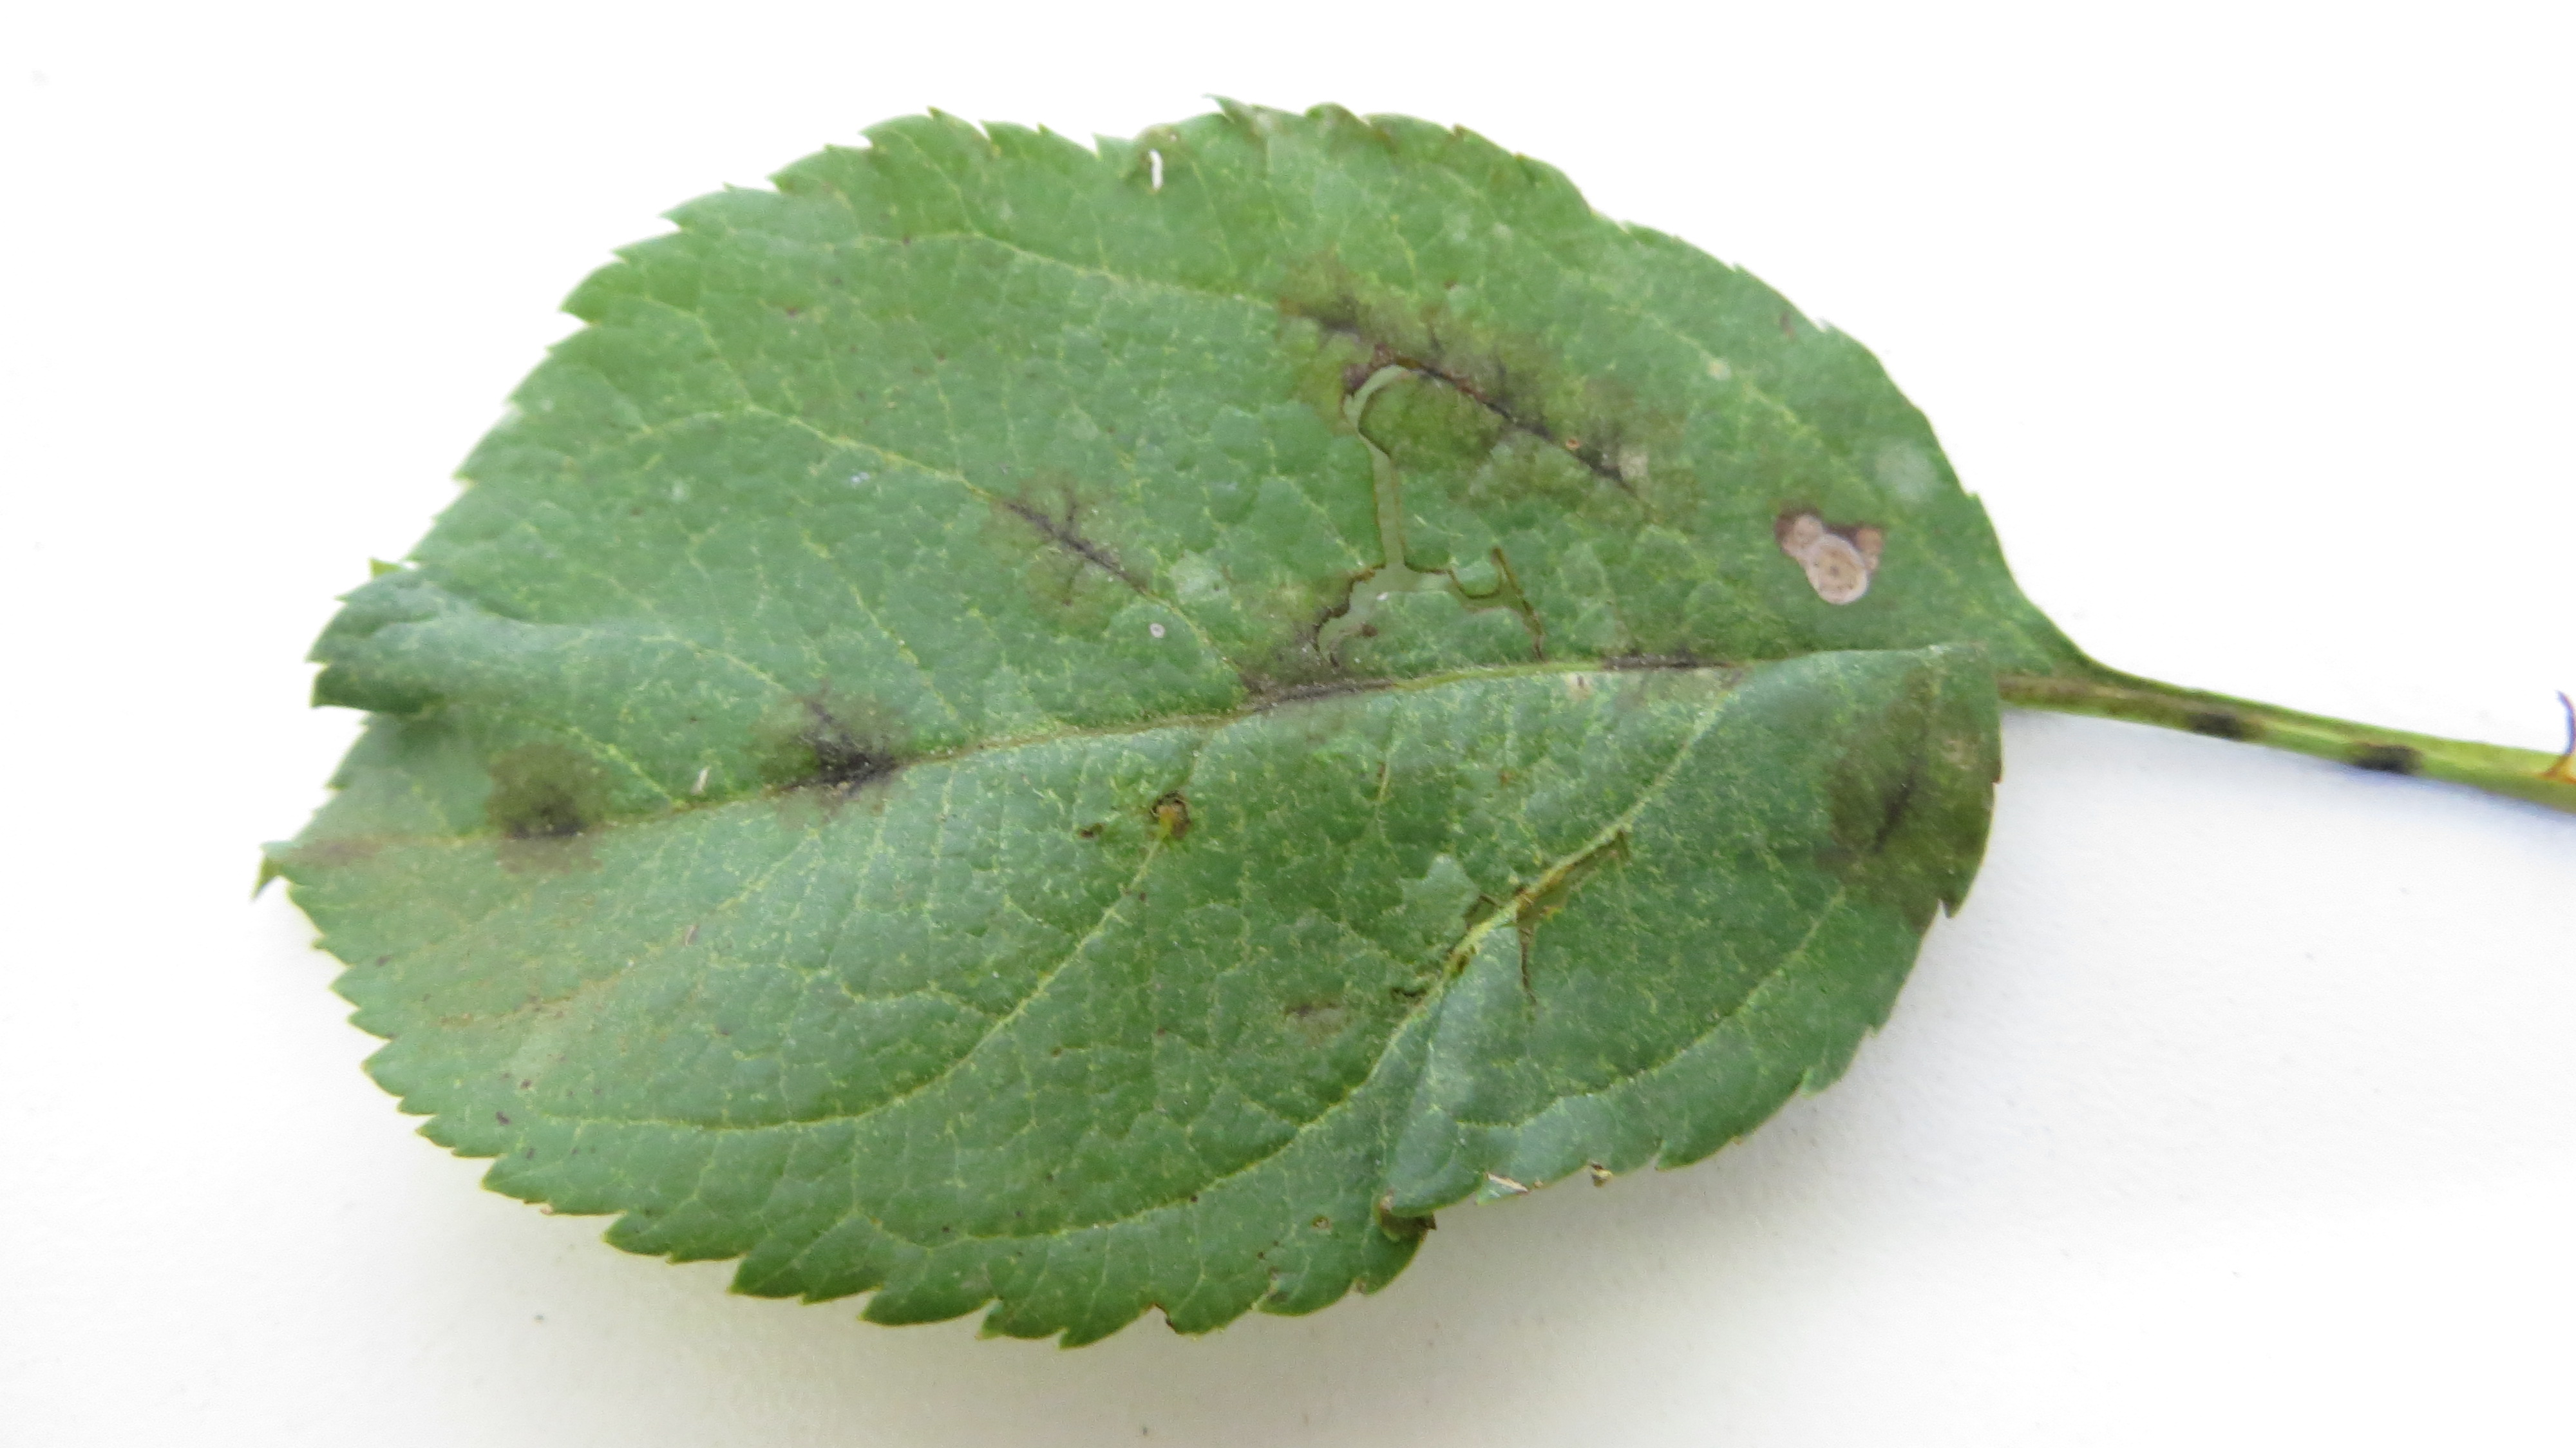sarna: (1309, 283, 1683, 533), (1785, 669, 1989, 931), (989, 473, 1191, 630), (1219, 561, 1405, 728), (750, 674, 924, 830), (474, 722, 621, 894), (1587, 588, 1759, 719), (1104, 756, 1215, 851)
